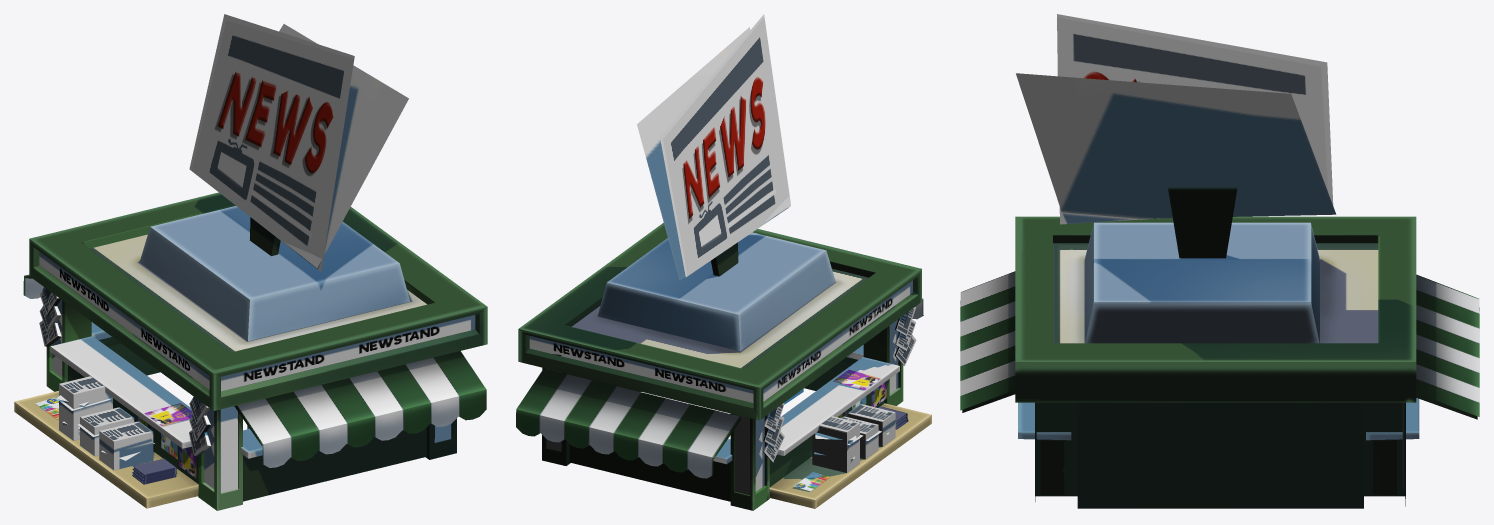
File: Newstand_20180521.fbx
3 views of the same model, side by side, from view 1: azimuth 30°, elevation 25°; view 2: azimuth 150°, elevation 25°; view 3: azimuth 270°, elevation 25° (orthographic). The views are drawn at different scales.
Visible parts, largest first — view 1: Rooftop, Newspaper_sign, Lowerbody, pillar_Sign, Roof_Side, Newspaper_Left, Newspaper_Right; view 2: Rooftop, Newspaper_sign, Lowerbody, pillar_Sign, Roof_Side1, Newspaper_Left, Newspaper_Right; view 3: Newspaper_sign, Rooftop, Lowerbody, pillar_Sign, Roof_Side1, Roof_Side.
Boxes of the visible parts, box(x1,y1,x2,y2) form: Rooftop: box(29, 192, 487, 410); Newspaper_sign: box(189, 14, 408, 271); Lowerbody: box(14, 299, 456, 510); pillar_Sign: box(140, 206, 410, 341); Roof_Side: box(234, 351, 486, 467); Newspaper_Left: box(39, 287, 61, 346); Newspaper_Right: box(189, 397, 211, 456); Rooftop: box(518, 222, 921, 420); Newspaper_sign: box(637, 14, 790, 279); Lowerbody: box(542, 319, 931, 510); pillar_Sign: box(597, 232, 835, 351); Roof_Side1: box(516, 368, 740, 478); Newspaper_Left: box(763, 403, 784, 462); Newspaper_Right: box(894, 307, 916, 365); Newspaper_sign: box(1016, 14, 1336, 224); Rooftop: box(1015, 216, 1416, 402); Lowerbody: box(1018, 398, 1419, 508); pillar_Sign: box(1084, 187, 1319, 343); Roof_Side1: box(1416, 274, 1479, 419); Roof_Side: box(960, 271, 1015, 412).
Size of the model in its own units: 16.53 by 20.63 by 21.68.
